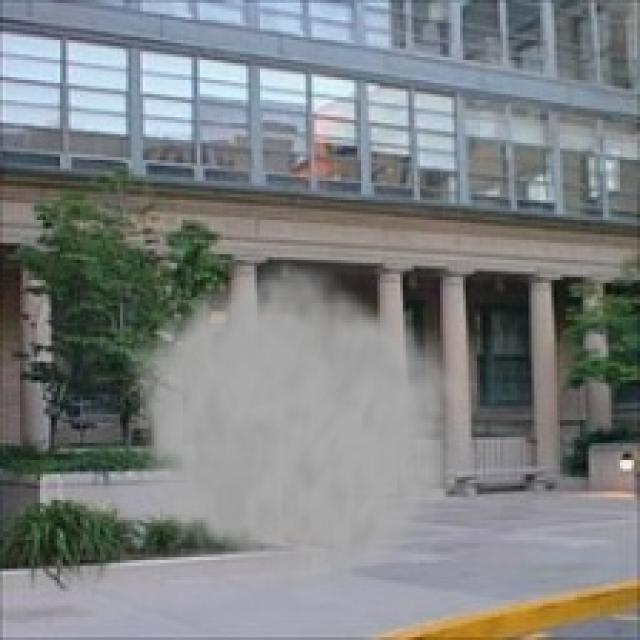smoke: (114, 252, 469, 612)
